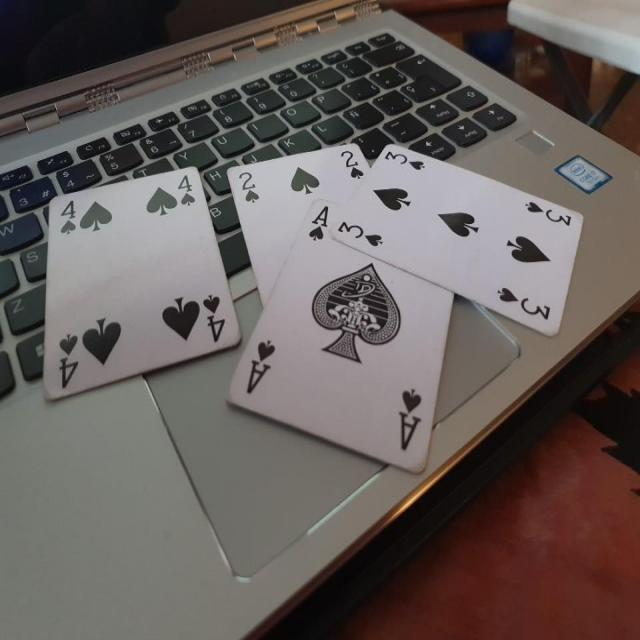2 Spades: (222, 138, 365, 330)
3 Spades: (331, 144, 593, 351)
4 Spades: (32, 165, 242, 403)
A Spades: (230, 194, 463, 481)
